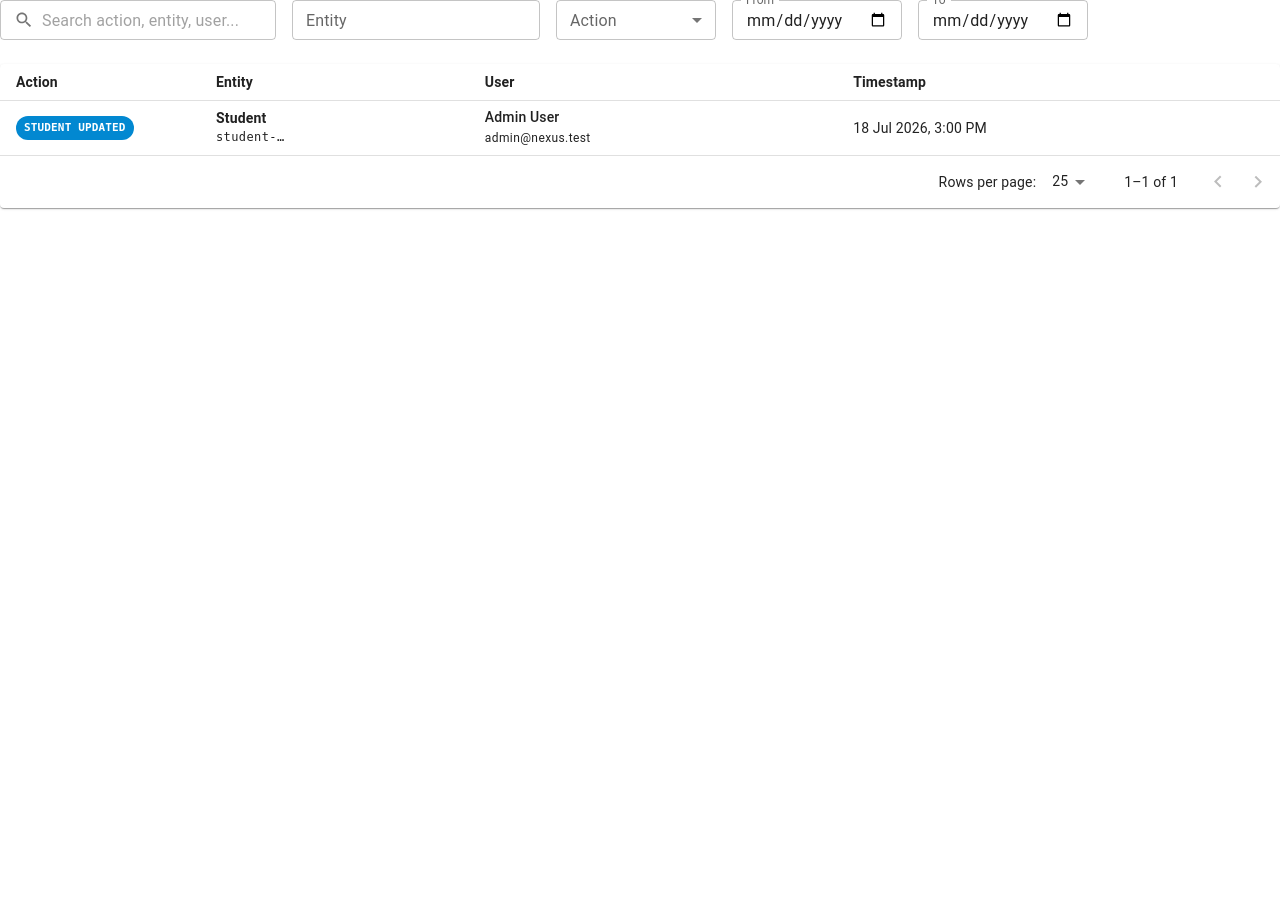
Scenario: AuditLogActivity › opens the diff viewer when a row is clicked
Click the text "STUDENT UPDATED": (75, 128) [16,120,134,136]
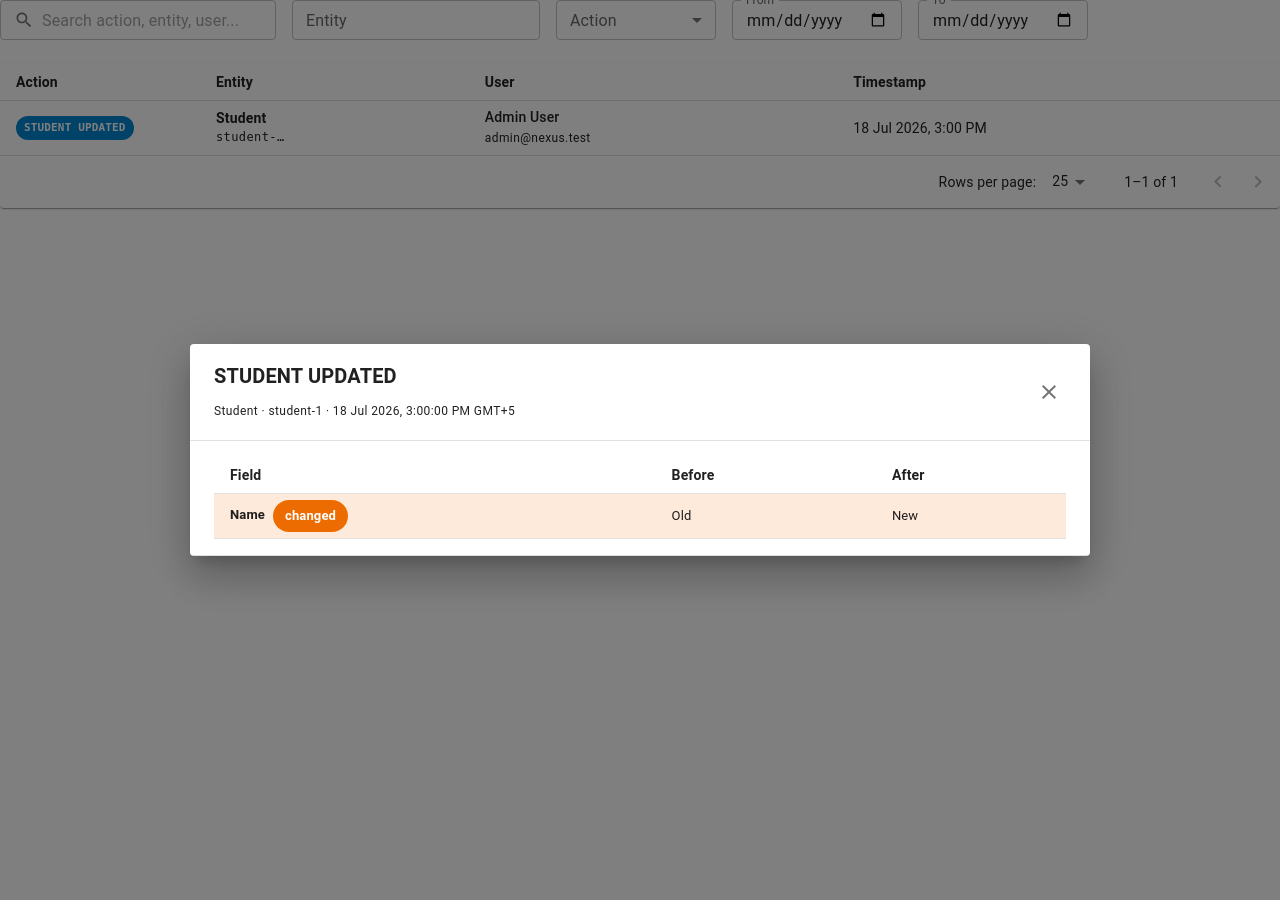
Expected: the text "Old" is shown, [672,508,691,523]
Expected: the text "New" is shown, [892,508,918,523]
